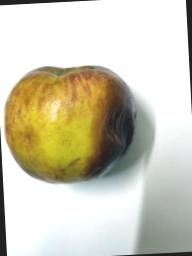Apple Overripe: (1, 52, 144, 194)
